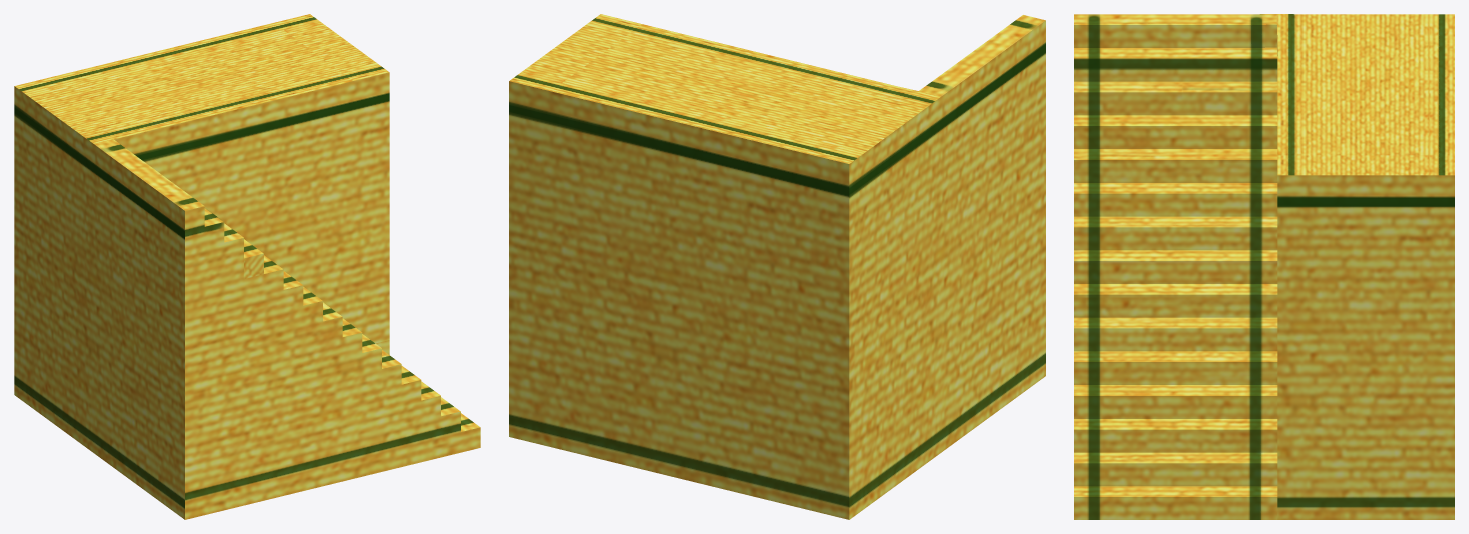
File: 4x4 Stairs Side.fbx
3 views of the same model, side by side, from view 1: azimuth 30°, elevation 25°; view 2: azimuth 150°, elevation 25°; view 3: azimuth 270°, elevation 25° (orthographic). The views are drawn at different scales.
Parts seen in each view (by area): view 1: 4x4 Stairs Side; view 2: 4x4 Stairs Side; view 3: 4x4 Stairs Side.
Boxes of the visible parts, x1=… form: 4x4 Stairs Side: x1=14, y1=14, x2=480, y2=519; 4x4 Stairs Side: x1=509, y1=14, x2=1045, y2=519; 4x4 Stairs Side: x1=1074, y1=14, x2=1454, y2=519.
Bounding box in the file's own units: 400 × 400 × 400.
1 material, 1 textured.
